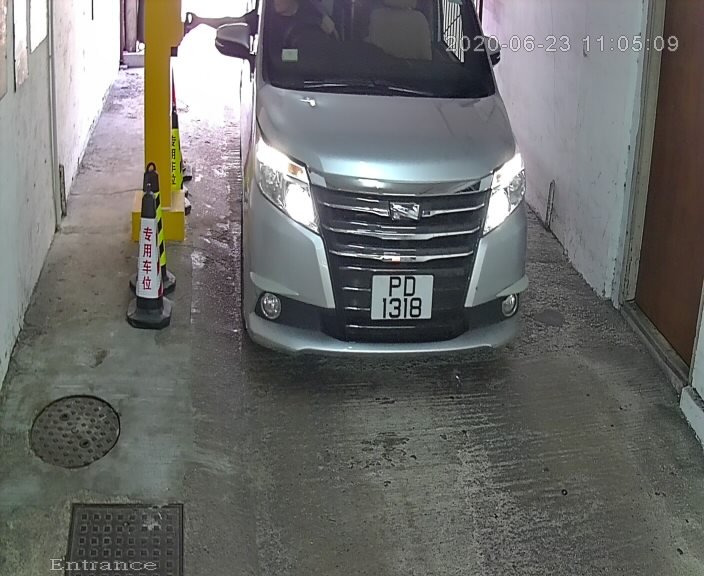privatecar: (210, 1, 531, 376)
